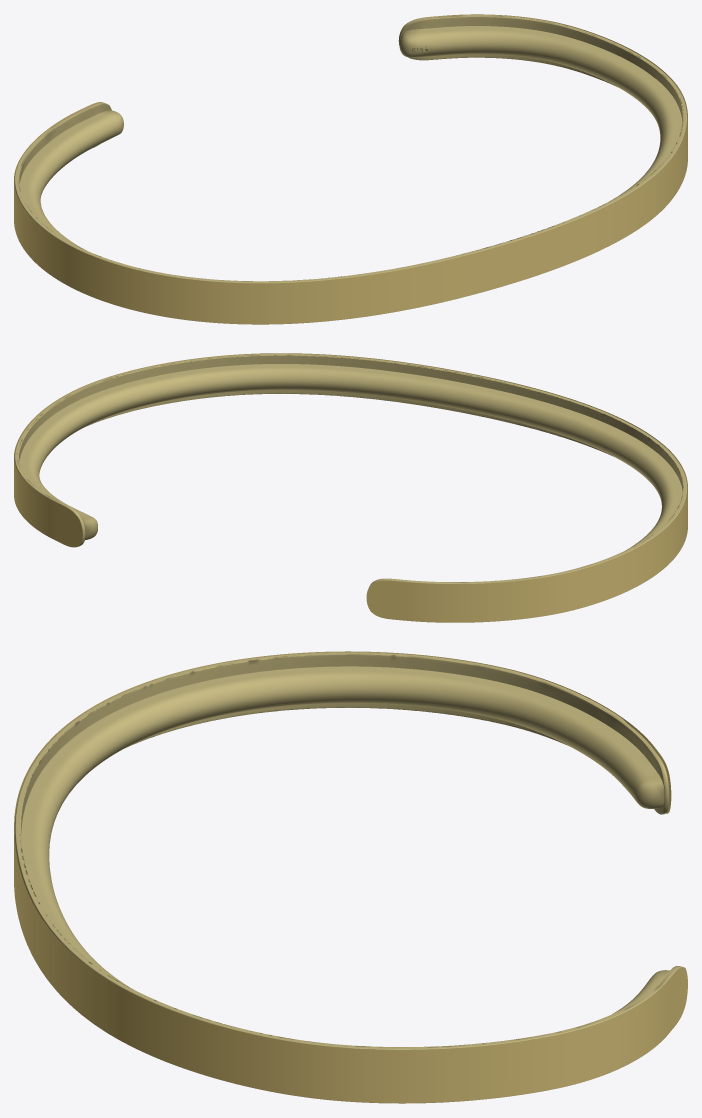
File: EX-bold-gold18.glb
3 views of the same model, one above another, from view 1: azimuth 30°, elevation 25°; view 2: azimuth 150°, elevation 25°; view 3: azimuth 270°, elevation 25° (orthographic). The views are drawn at different scales.
Parts seen in each view (by area): view 1: EX-omote.003, EX-body.003; view 2: EX-body.003, EX-omote.003; view 3: EX-body.003, EX-omote.003.
Boxes of the visible parts, left/top/right/bottom form: EX-omote.003: left=14, top=14, right=687, bottom=324; EX-body.003: left=14, top=15, right=687, bottom=283; EX-body.003: left=14, top=353, right=687, bottom=584; EX-omote.003: left=14, top=353, right=687, bottom=622; EX-body.003: left=14, top=652, right=682, bottom=1049; EX-omote.003: left=14, top=651, right=687, bottom=1103.
Size of the model in its own units: 3.45 by 0.2162 by 2.47.
Materials: 2 (2 with a texture image).
